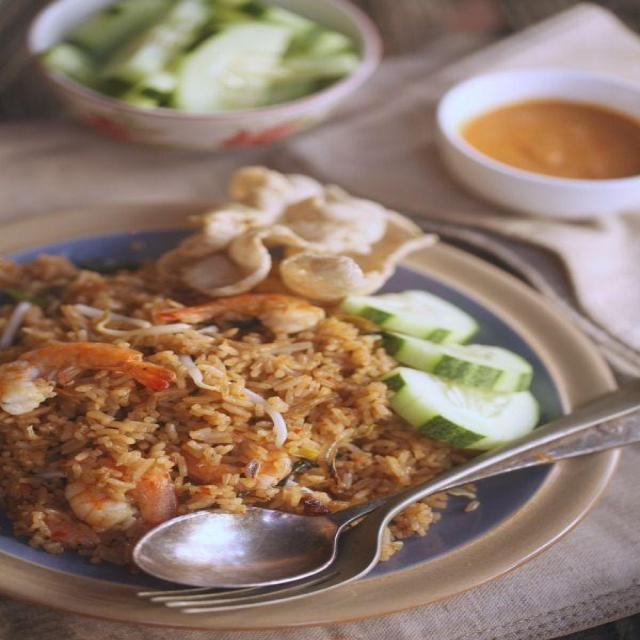Nasi Goreng: (0, 242, 465, 584)
